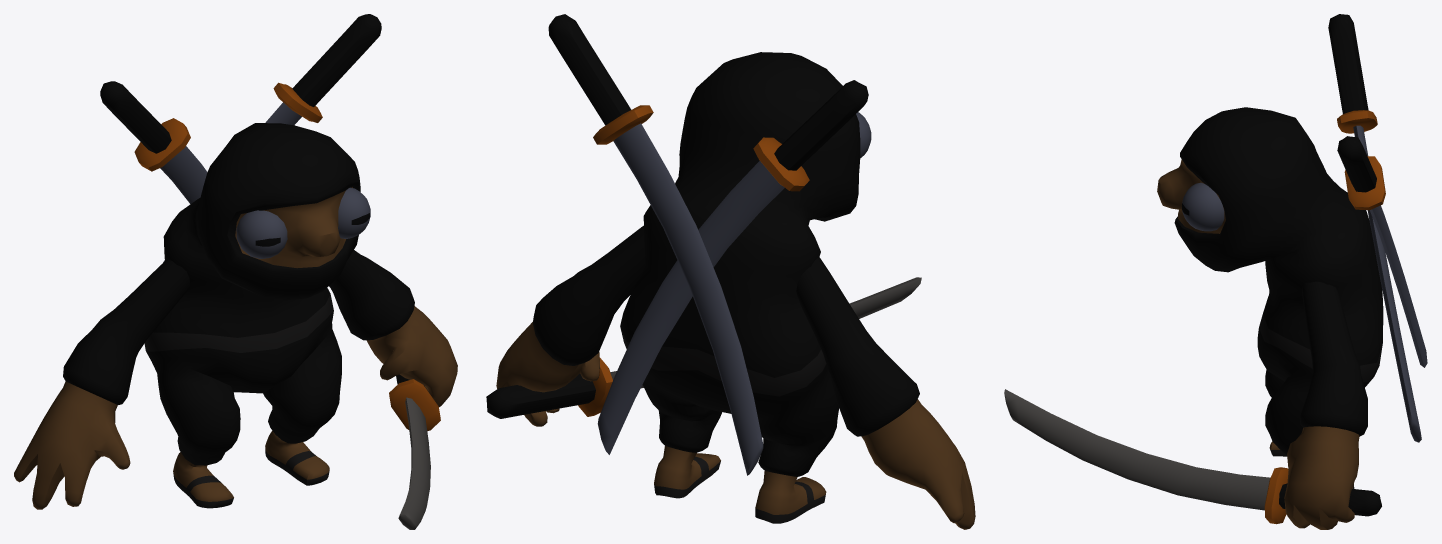
File: Ninja.obj
The picture shows the model from 3 angles, left to right: view 1: azimuth 30°, elevation 25°; view 2: azimuth 150°, elevation 25°; view 3: azimuth 270°, elevation 25°; orthographic projection. The views are drawn at different scales.
Visible parts, largest first — view 1: Ninja_Cube.092; view 2: Ninja_Cube.092; view 3: Ninja_Cube.092.
Boxes of the visible parts, x1,y1,x2,y2 form: Ninja_Cube.092: [14, 14, 457, 529]; Ninja_Cube.092: [486, 14, 975, 529]; Ninja_Cube.092: [1004, 14, 1427, 529].
Size of the model in its own units: 3.12 by 2.91 by 2.76.
